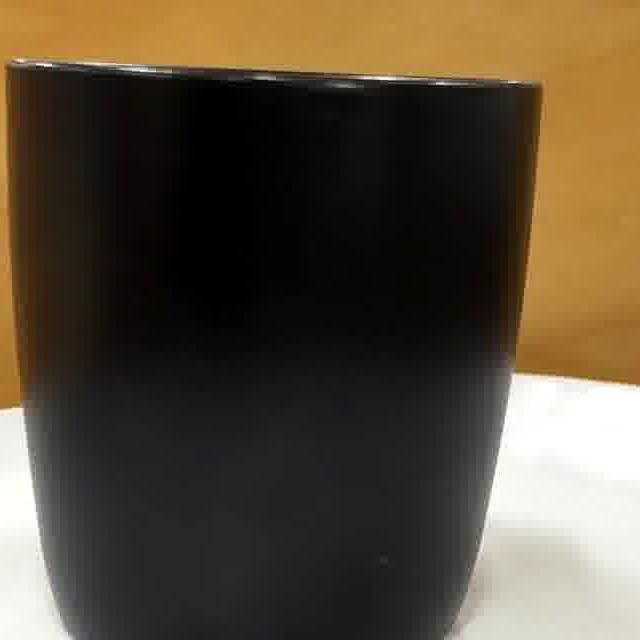cup: (14, 67, 536, 640)
